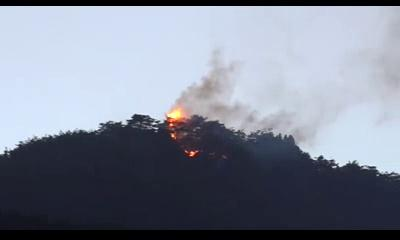fire: (167, 107, 180, 120)
smoke: (183, 86, 229, 114)
